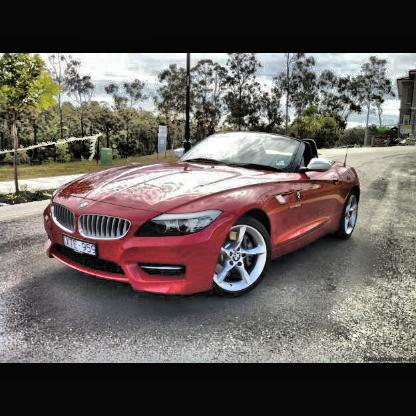BMW Z4 Convertible 2012: (46, 131, 362, 300)
